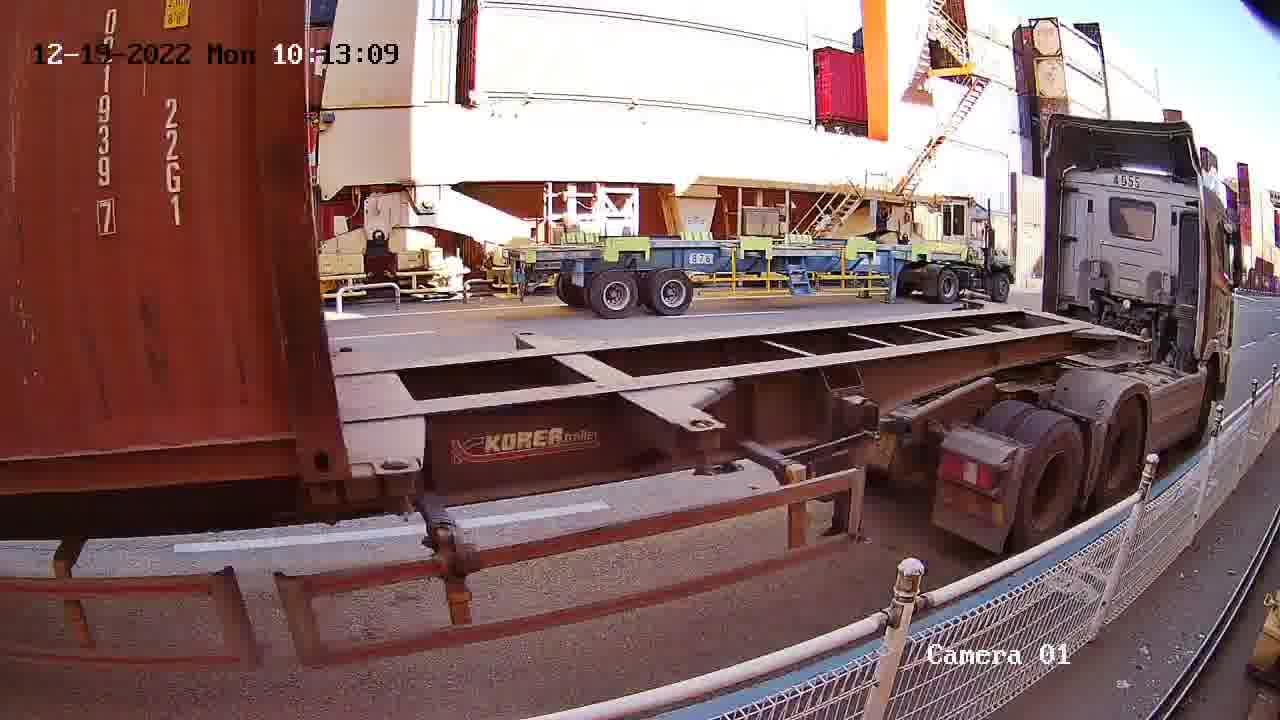Chassis: (336, 346, 423, 473)
Cone: (372, 456, 422, 522), (301, 480, 348, 528)
Hole_R: (255, 410, 350, 479)
Tire: (1022, 423, 1087, 543), (1096, 399, 1148, 500)
